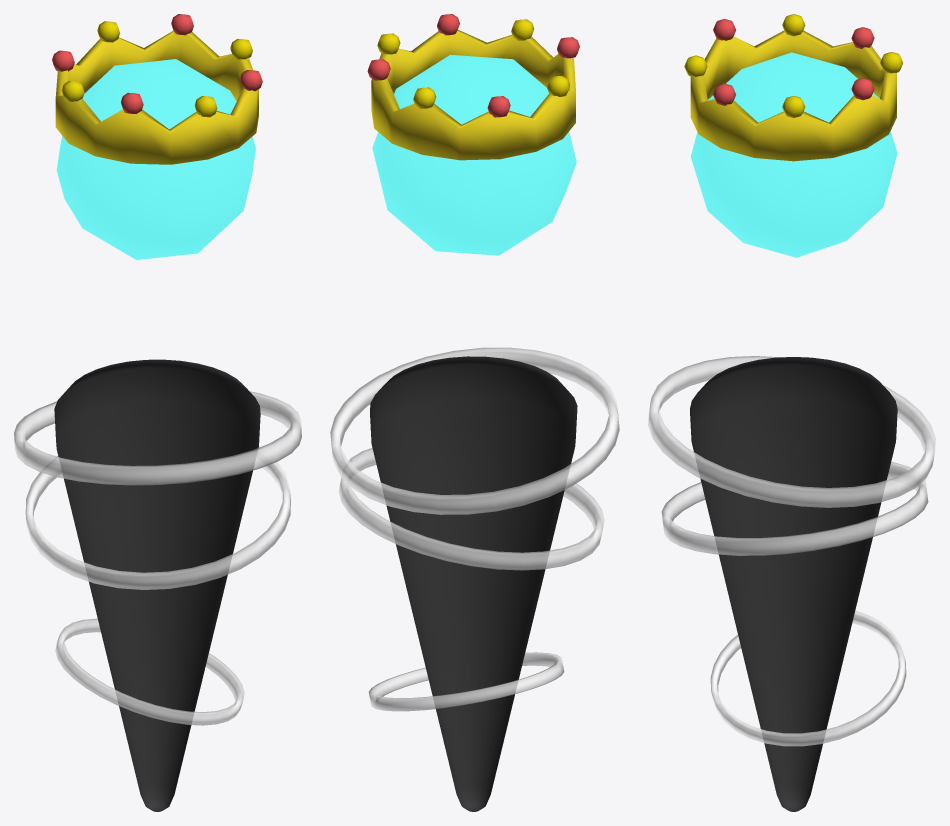
File: King Spirit.fbx
3 views of the same model, side by side, from view 1: azimuth 30°, elevation 25°; view 2: azimuth 150°, elevation 25°; view 3: azimuth 270°, elevation 25° (orthographic).
Parts seen in each view (by area): view 1: Cone.002, Head.002, Loop 3.002; view 2: Cone.002, Head.002, Loop 3.002; view 3: Cone.002, Head.002, Loop 3.002.
Boxes of the visible parts, x1=… form: Cone.002: x1=54, y1=359, x2=260, y2=811; Head.002: x1=52, y1=14, x2=262, y2=259; Loop 3.002: x1=14, y1=391, x2=301, y2=725; Cone.002: x1=370, y1=356, x2=577, y2=811; Head.002: x1=367, y1=14, x2=579, y2=255; Loop 3.002: x1=330, y1=347, x2=619, y2=711; Cone.002: x1=690, y1=357, x2=897, y2=811; Head.002: x1=684, y1=14, x2=902, y2=257; Loop 3.002: x1=648, y1=356, x2=935, y2=746.
Size of the model in its own units: 131 by 381 by 131.
